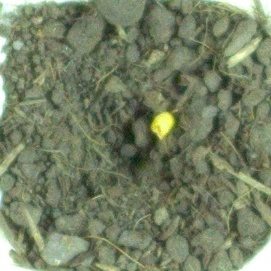chilli seed: (150, 111, 177, 141)
